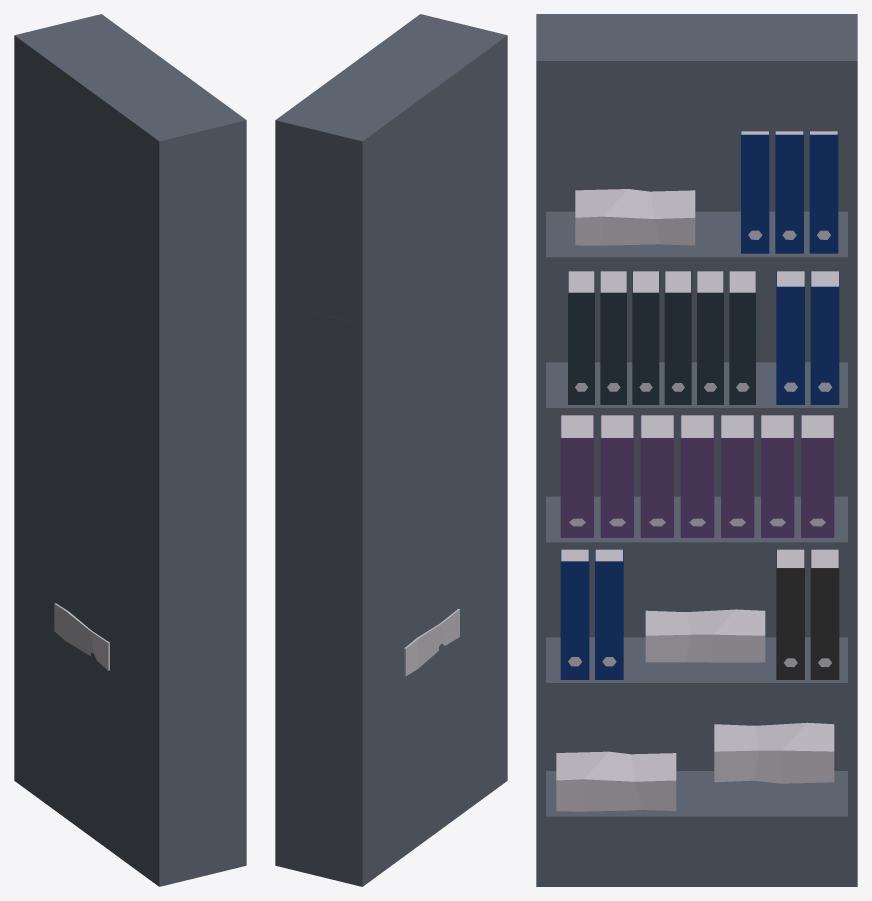
The model's file is cabinet7.fbx.
3 renders of one model, left to right at view 1: azimuth 30°, elevation 25°; view 2: azimuth 150°, elevation 25°; view 3: azimuth 270°, elevation 25°, orthographic. The views are drawn at different scales.
Parts seen in each view (by area): view 1: Cabinet1.011, Cabinet1.012, Cabinet1.013, Cube.168; view 2: Cabinet1.011, Cabinet1.012, Cabinet1.013, Cube.168; view 3: Cabinet1.011, Cabinet1.013, Book0.002, Cabinet1.012, Book0.001, Book0.005, Book0.010, Book0.003, Book0.004, Cube.165, Cube.167, Cube.169 (+1 smaller).
Part boxes in pixels (x1=…): Cabinet1.011: x1=14, y1=471, x2=246, y2=886; Cabinet1.012: x1=14, y1=219, x2=246, y2=576; Cabinet1.013: x1=14, y1=14, x2=246, y2=324; Cube.168: x1=54, y1=603, x2=109, y2=670; Cabinet1.011: x1=275, y1=470, x2=507, y2=886; Cabinet1.012: x1=275, y1=219, x2=507, y2=576; Cabinet1.013: x1=275, y1=14, x2=507, y2=324; Cube.168: x1=404, y1=609, x2=459, y2=676; Cabinet1.011: x1=536, y1=496, x2=857, y2=886; Cabinet1.013: x1=536, y1=14, x2=857, y2=263; Book0.002: x1=560, y1=415, x2=834, y2=537; Cabinet1.012: x1=536, y1=264, x2=857, y2=542; Book0.001: x1=568, y1=271, x2=755, y2=404; Book0.005: x1=741, y1=131, x2=838, y2=253; Book0.010: x1=776, y1=271, x2=839, y2=404; Book0.003: x1=560, y1=549, x2=623, y2=679; Book0.004: x1=776, y1=549, x2=839, y2=679; Cube.165: x1=556, y1=751, x2=676, y2=811; Cube.167: x1=714, y1=722, x2=834, y2=783; Cube.169: x1=575, y1=189, x2=695, y2=245.
Bounding box in the file's own units: 0.1919 × 1.53 × 0.5406.
